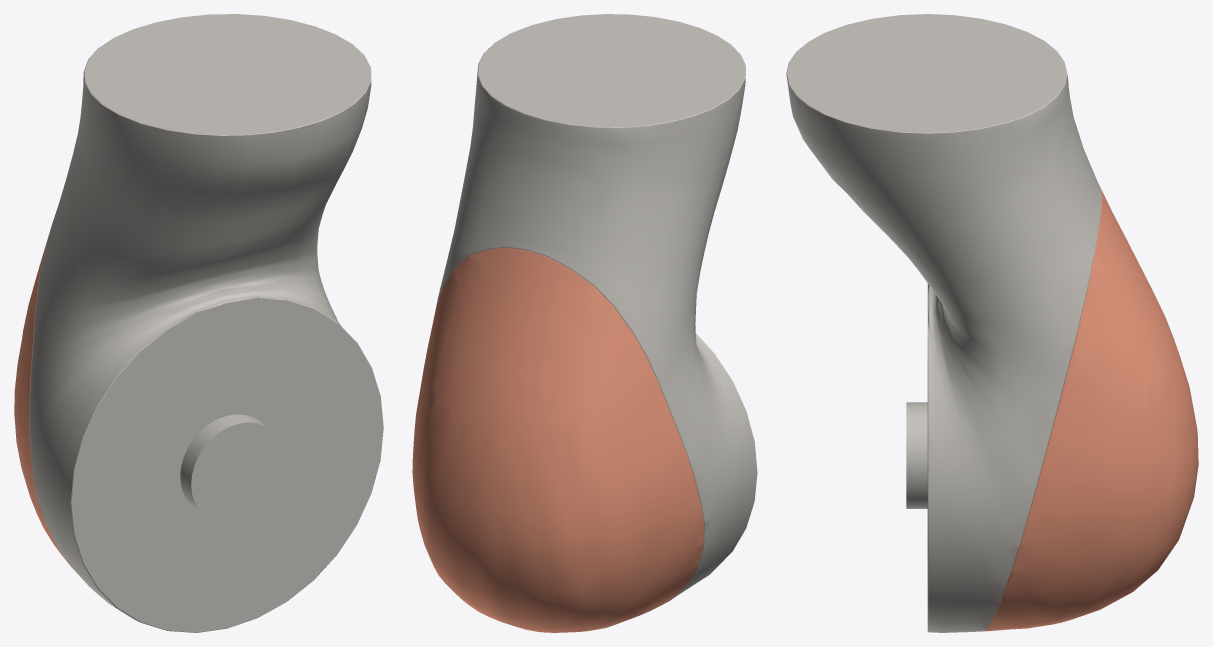
3 renders of one model, left to right at view 1: azimuth 30°, elevation 25°; view 2: azimuth 150°, elevation 25°; view 3: azimuth 270°, elevation 25°, orthographic. The views are drawn at different scales.
Visible parts, largest first — view 1: 2; view 2: 2; view 3: 2.
Part boxes in pixels (x1,y1,x2,y2): 2: (14,14,383,632); 2: (412,14,757,632); 2: (786,14,1198,632).
Size of the model in its own units: 0.1712 by 0.1997 by 0.2899.
